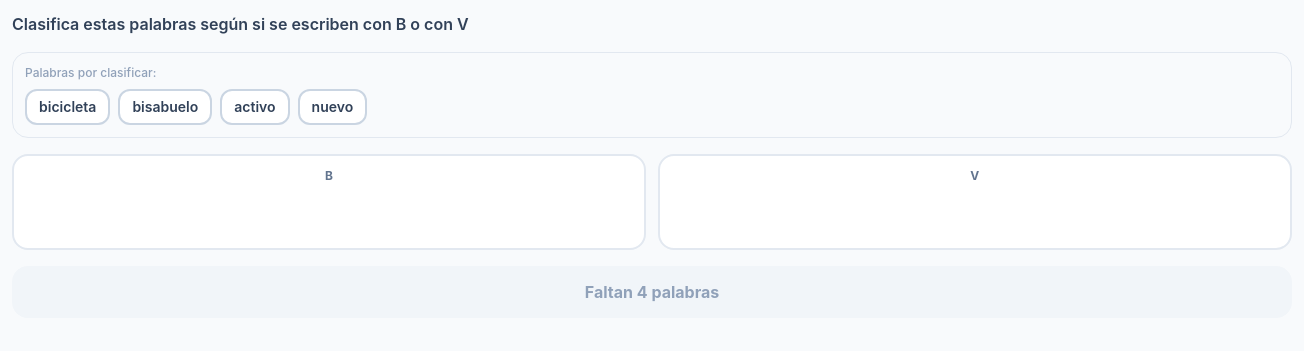
Test: ClassifyCard › coloca la palabra en la categoría al tocar la categoría
// Seleccionar palabra
Click the button "bicicleta" at (68, 107), box [25, 89, 110, 125]
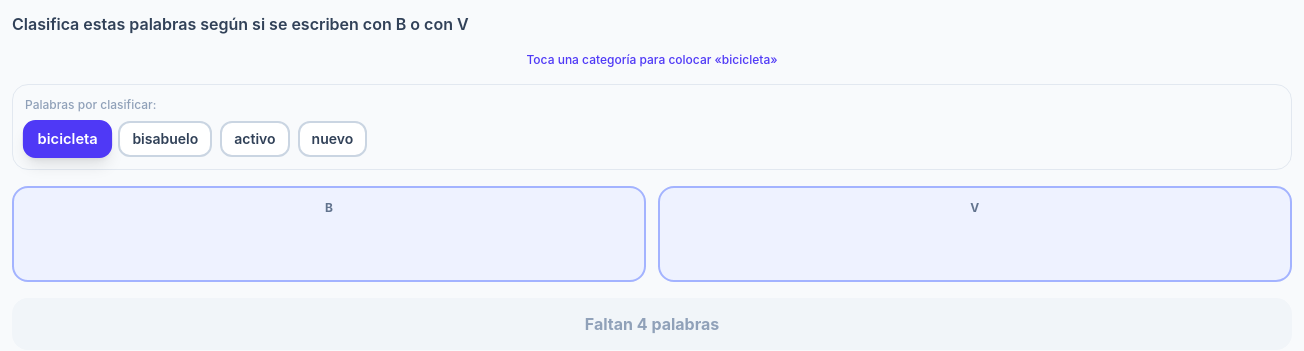
// Tocar la categoría B (encabezado del panel)
Click the text "B" at (329, 208), box [325, 200, 333, 215]
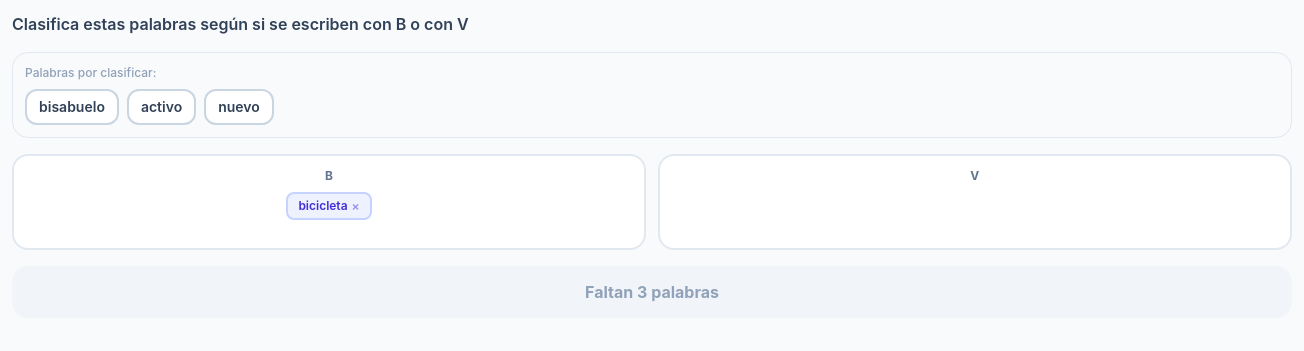
Check: the text "Palabras por clasificar:" is shown, box [25, 65, 156, 80]
Check: the text "Toca una categoría" is gone
